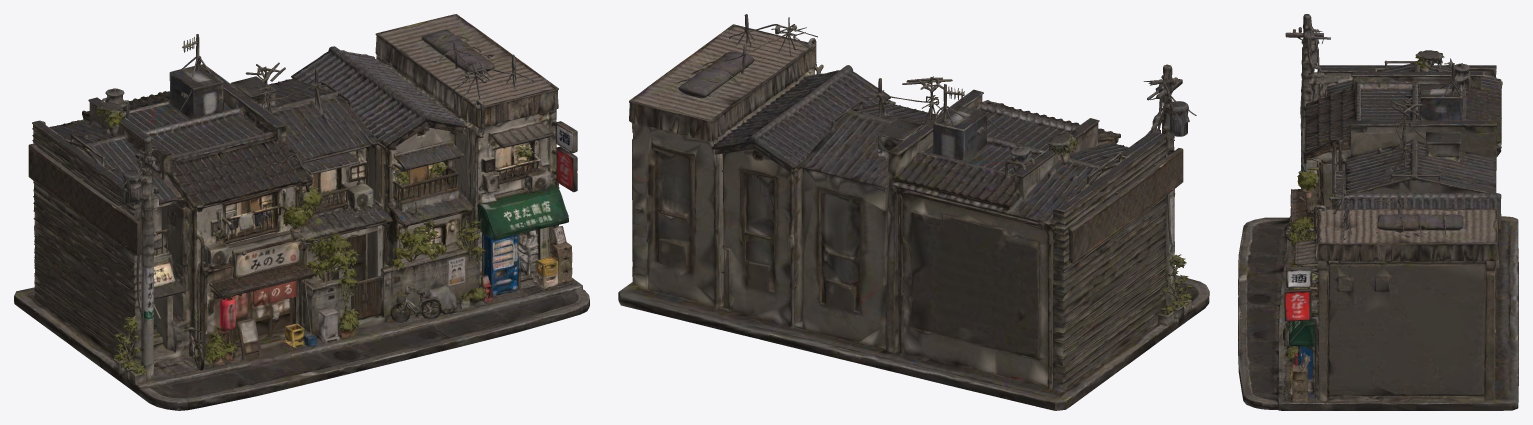
The model's file is residential-web.glb.
3 views of the same model, side by side, from view 1: azimuth 30°, elevation 25°; view 2: azimuth 150°, elevation 25°; view 3: azimuth 270°, elevation 25° (orthographic). The views are drawn at different scales.
Bounding box in the file's own units: 1.92 × 1.05 × 1.19.
Materials: 1 (1 with a texture image).
